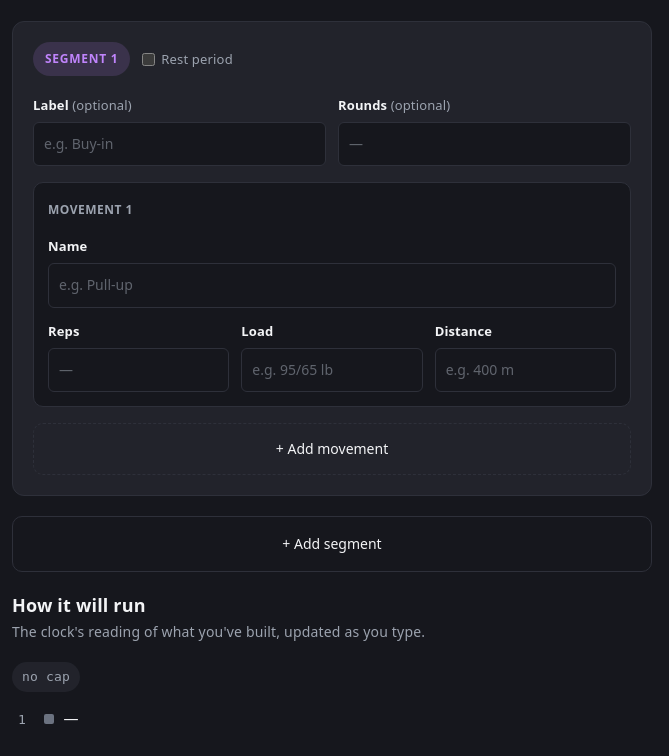
Test case: segments and movements › adds a second movement to a segment
(page scrolled)
Click the button "+ Add movement".
click(332, 449)  # box [33,423,631,475]
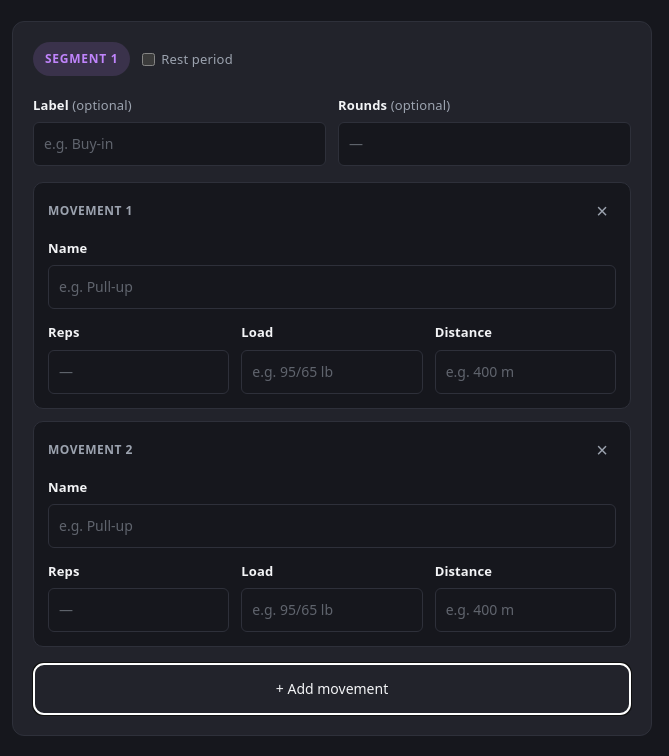
Expected: the number of fields with placeholder "e.g. Pull-up" is 2, [48,265,616,310]; [48,504,616,548]
